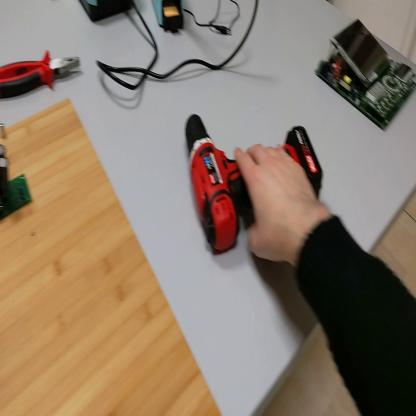electric screwdriver: (183, 113, 325, 257)
hand: (235, 145, 328, 260)
high voltage board: (2, 137, 33, 224)
low voltage board: (313, 16, 416, 131)
pliers: (2, 46, 82, 102)
welder base: (152, 1, 188, 40)
welder station: (80, 1, 135, 29)
working area: (2, 101, 222, 415)
